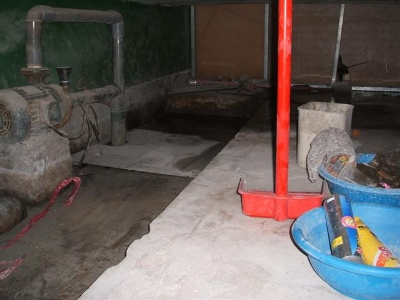bowl: (290, 203, 400, 298)
bucket: (294, 101, 354, 169)
